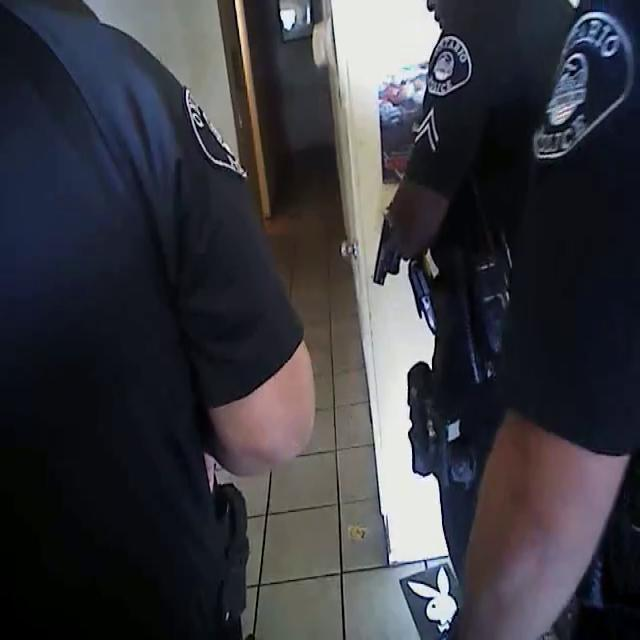gun: (363, 191, 411, 295)
